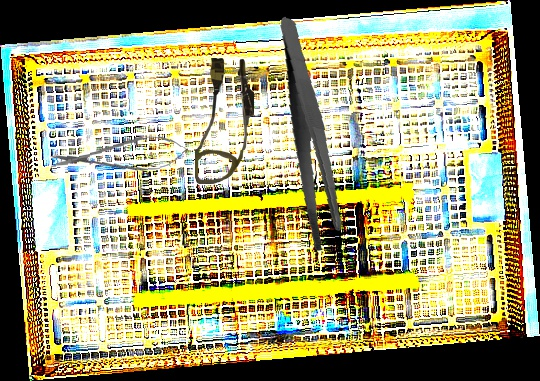Cannula: (194, 57, 256, 185)
Dressing Forceps: (261, 16, 359, 254)
Micro Scissor: (48, 132, 190, 179)
